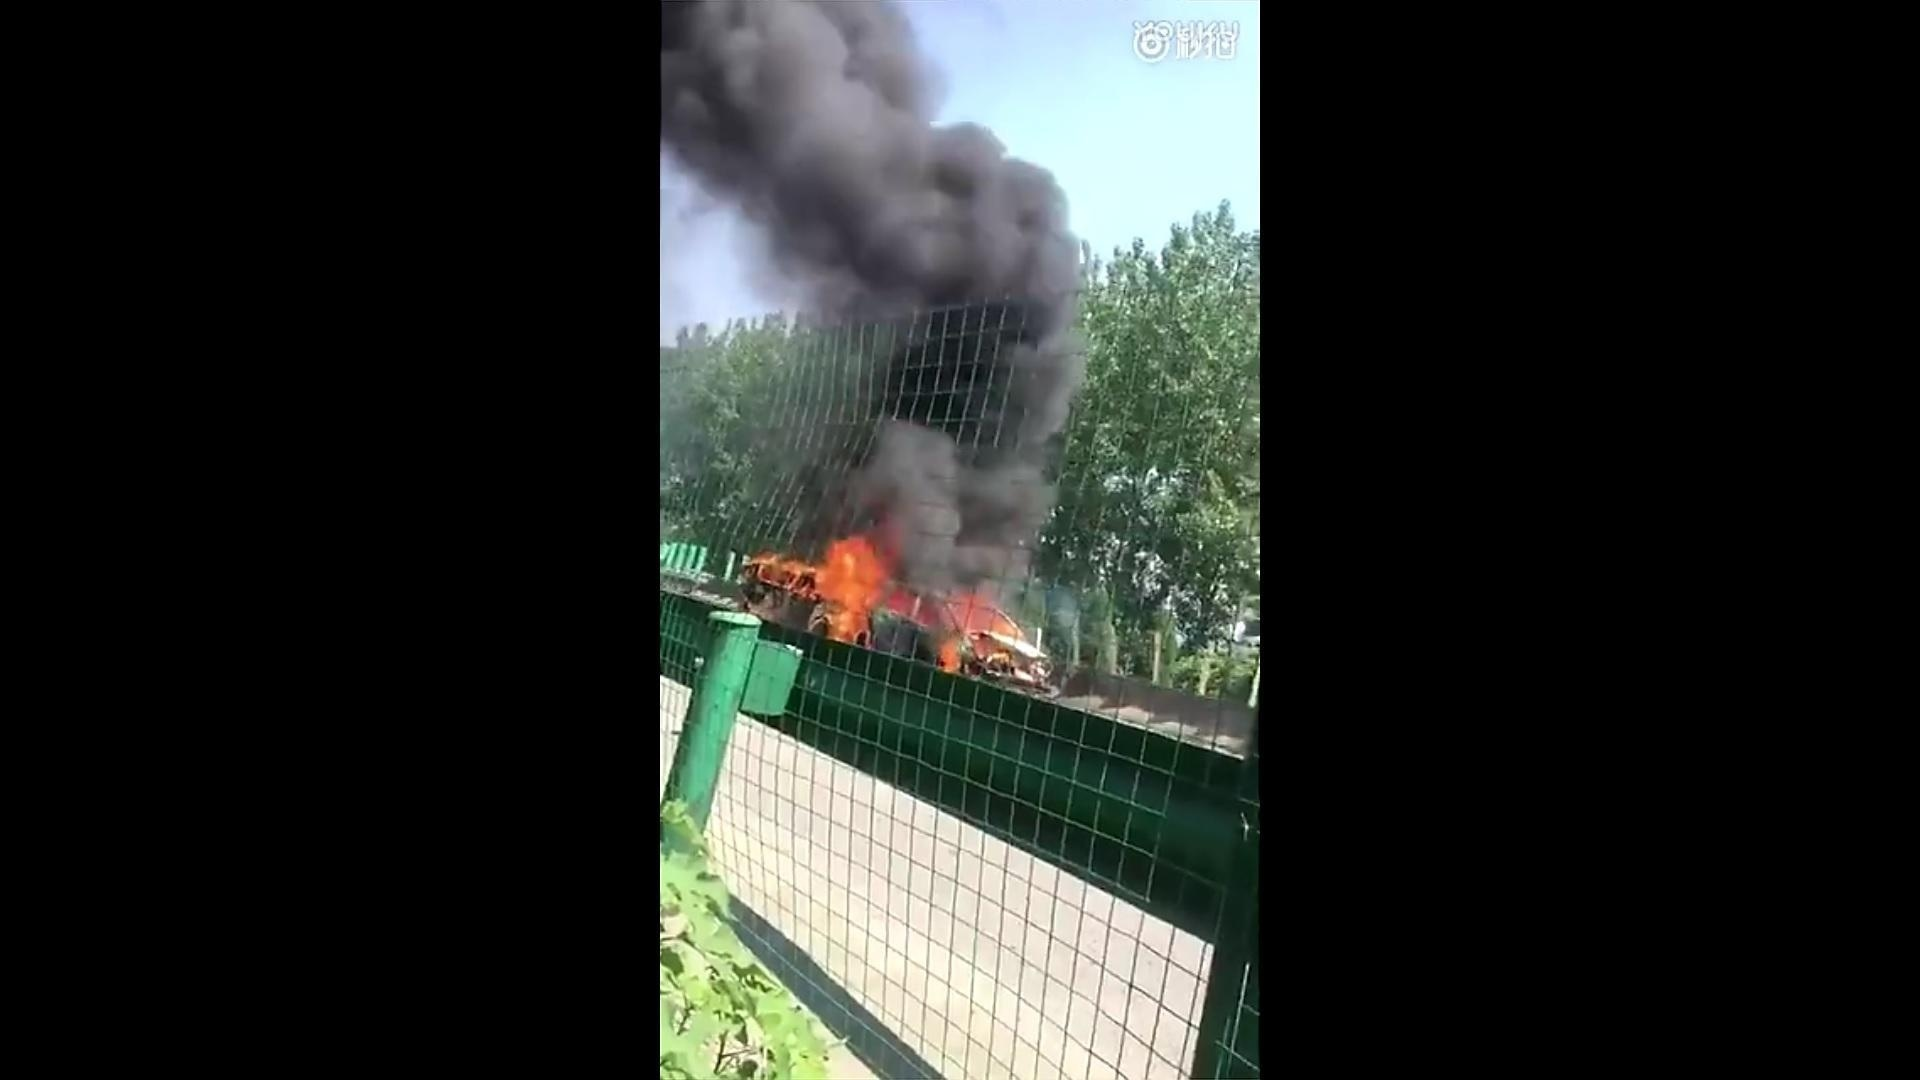fire: (745, 530, 1044, 671)
